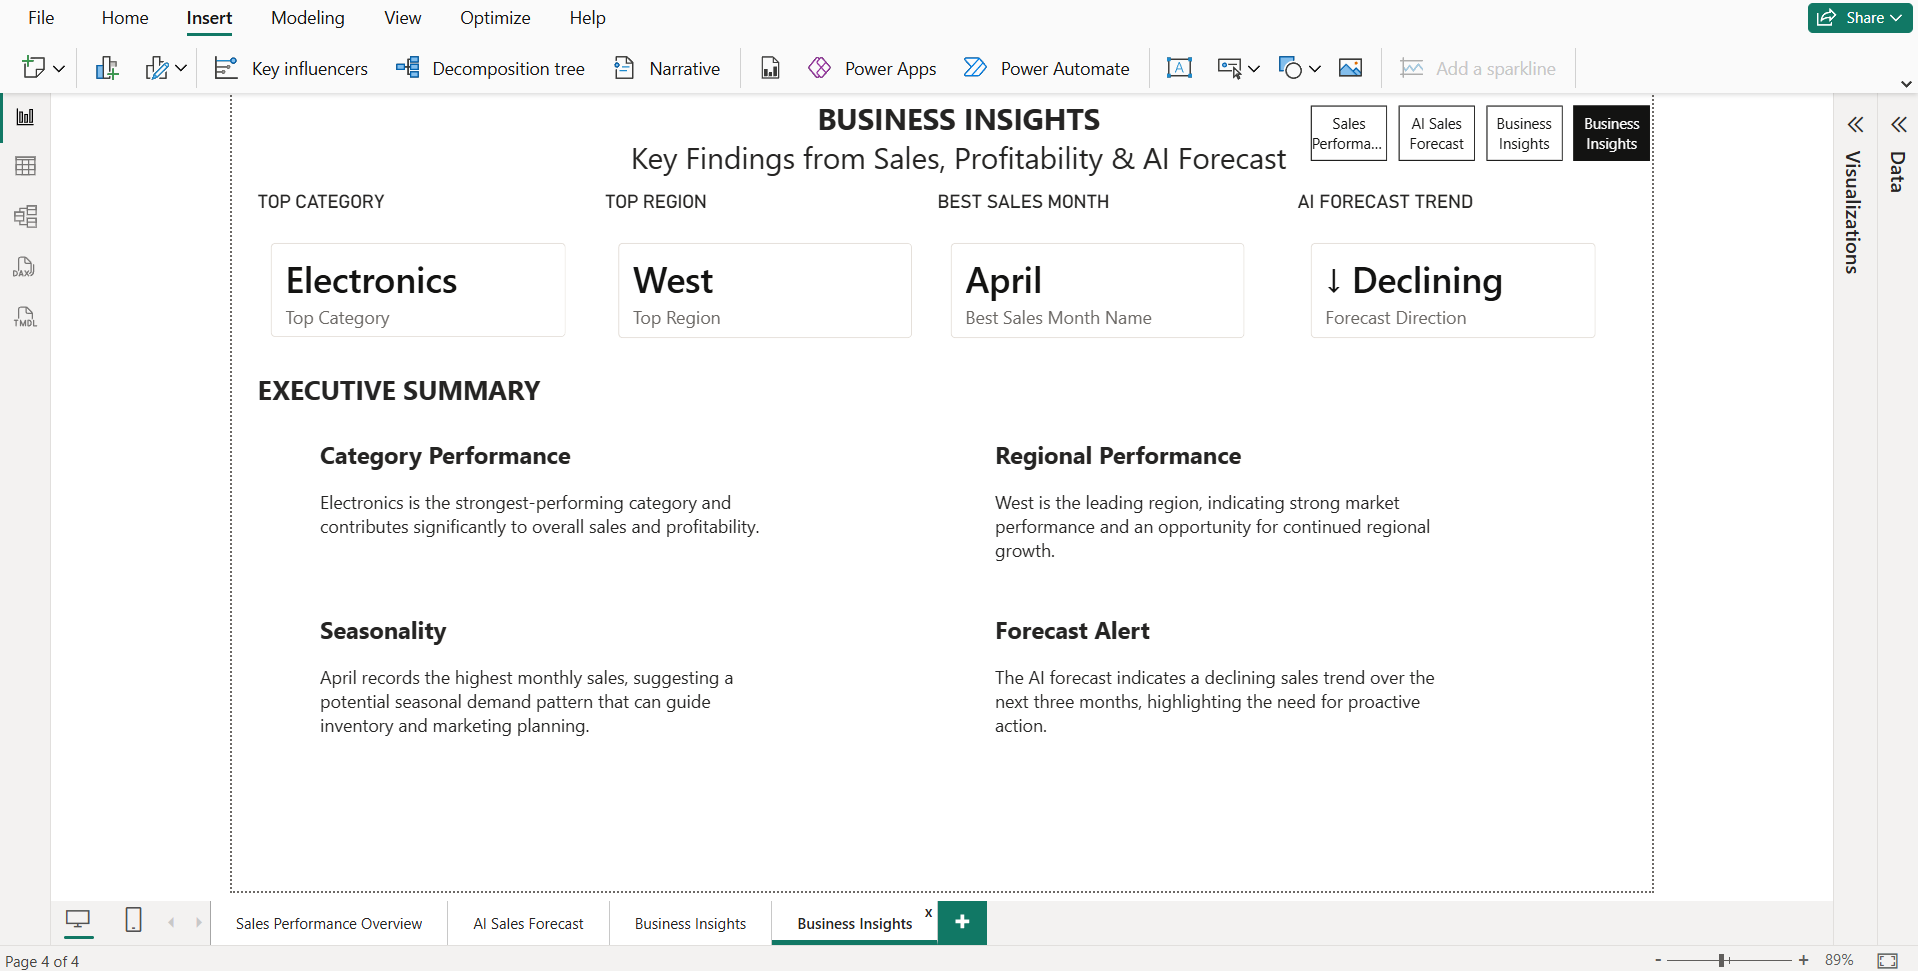

This screenshot's page, from the dashboard's own definition file:
{"tool":"powerbi","page":{"name":"Business Insights","canvas":[1280,720],"ordinal":3},"visuals":[{"type":"textbox","box":[182.2,0,945.2,88],"z":0},{"type":"cardVisual","title":"BEST SALES MONTH","fields":{"Data":["Category Forecast.Best Sales Month Name"]},"box":[631,88,299.6,150.4],"z":1000},{"type":"cardVisual","title":"AI FORECAST TREND","fields":{"Data":["Category Forecast.Forecast Direction"]},"box":[956.3,88,291,150.4],"z":2000},{"type":"cardVisual","title":"TOP CATEGORY","fields":{"Data":["Category Forecast.Top Category"]},"box":[18.3,88,300,150],"z":3000},{"type":"cardVisual","title":"TOP REGION","fields":{"Data":["Category Forecast.Top Region"]},"box":[331.4,88,299.6,150.4],"z":4000},{"type":"textbox","box":[18.3,247,299.6,51.4],"z":5000},{"type":"textbox","box":[74.6,306.9,407.2,141.8],"z":6000},{"type":"textbox","box":[683.6,306.9,407.2,141.8],"z":7000},{"type":"textbox","box":[74.6,464.7,407.2,141.8],"z":8000},{"type":"textbox","box":[683.6,464.7,407.2,141.8],"z":9000},{"type":"pageNavigator","box":[972.2,11,308.2,50.1],"z":10000}]}

Visuals, with their boxes on the page's 1280x720 design canvas (x1, y1, x2, y2). These are canvas units, not pixel positions in the 1918x971 screenshot, which may show the page scaled, cropped or inside an application window:
textbox: (182,0,1127,88)
"BEST SALES MONTH" cardVisual: (631,88,931,238)
"AI FORECAST TREND" cardVisual: (956,88,1247,238)
"TOP CATEGORY" cardVisual: (18,88,318,238)
"TOP REGION" cardVisual: (331,88,631,238)
textbox: (18,247,318,298)
textbox: (75,307,482,449)
textbox: (684,307,1091,449)
textbox: (75,465,482,606)
textbox: (684,465,1091,606)
pageNavigator: (972,11,1280,61)
